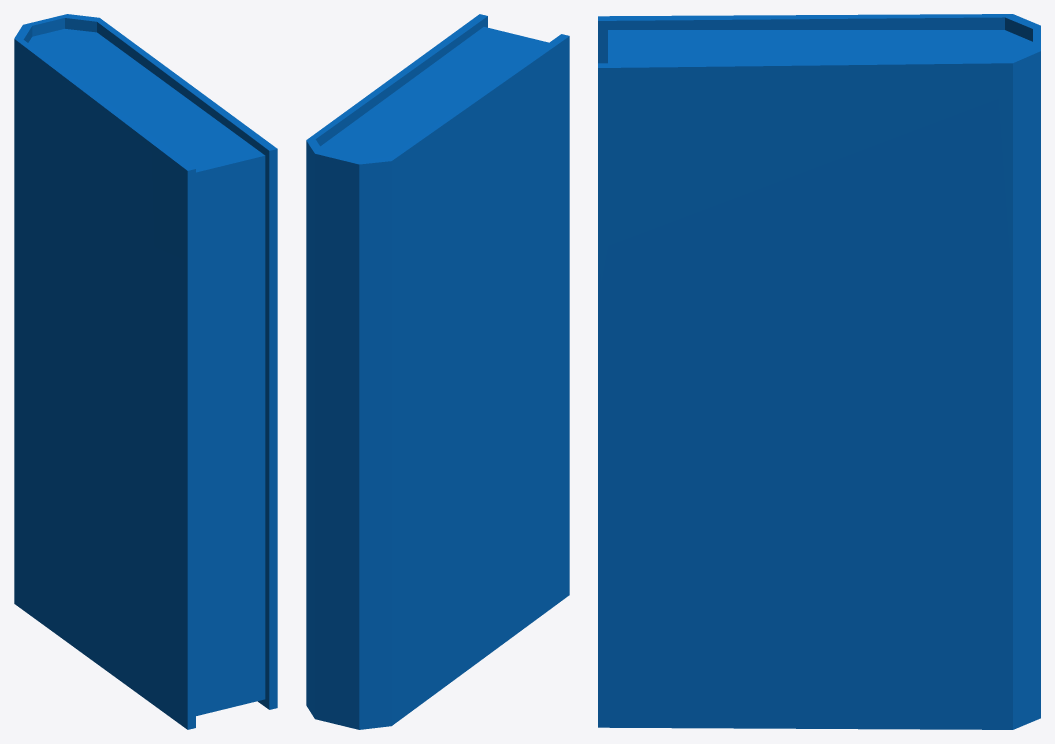
The model's file is Book-einfarbig.FBX.
3 renders of one model, left to right at view 1: azimuth 30°, elevation 25°; view 2: azimuth 150°, elevation 25°; view 3: azimuth 270°, elevation 25°, orthographic. The views are drawn at different scales.
Parts seen in each view (by area): view 1: Box001; view 2: Box001; view 3: Box001.
Part boxes in pixels (x1,y1,x2,y2): Box001: (14, 14, 277, 729); Box001: (306, 14, 569, 729); Box001: (598, 14, 1040, 729).
Bounding box in the file's own units: 1.71 × 10.24 × 6.16.
